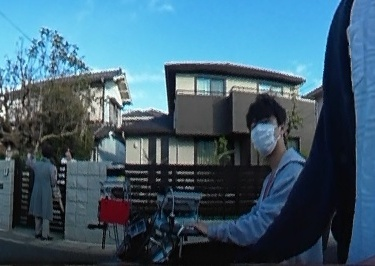person: (226, 92, 322, 266), (24, 144, 57, 238)
